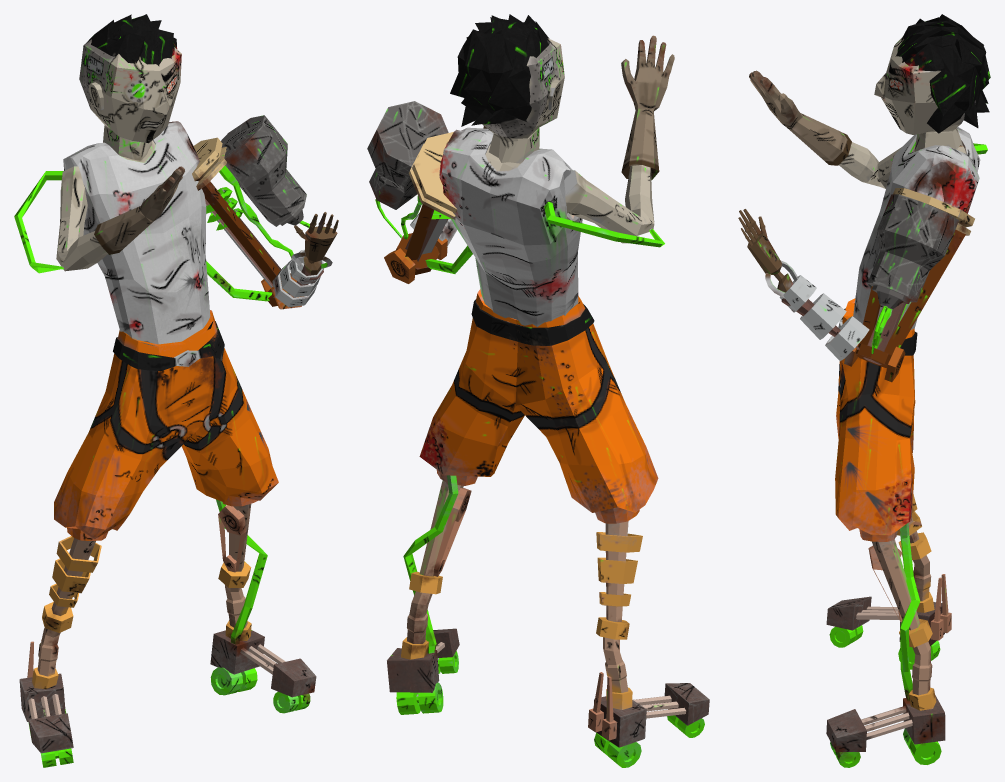
File: CyborgFINALAnimation_000023.obj
3 renders of one model, left to right at view 1: azimuth 30°, elevation 25°; view 2: azimuth 150°, elevation 25°; view 3: azimuth 270°, elevation 25°, orthographic. The views are drawn at different scales.
Parts seen in each view (by area): view 1: CyborgMesh_Cube.002; view 2: CyborgMesh_Cube.002; view 3: CyborgMesh_Cube.002.
Boxes of the visible parts, x1=… form: CyborgMesh_Cube.002: x1=14, y1=14, x2=338, y2=767; CyborgMesh_Cube.002: x1=367, y1=14, x2=709, y2=767; CyborgMesh_Cube.002: x1=738, y1=14, x2=990, y2=767.
Size of the model in its own units: 4.35 by 9.56 by 3.16.
